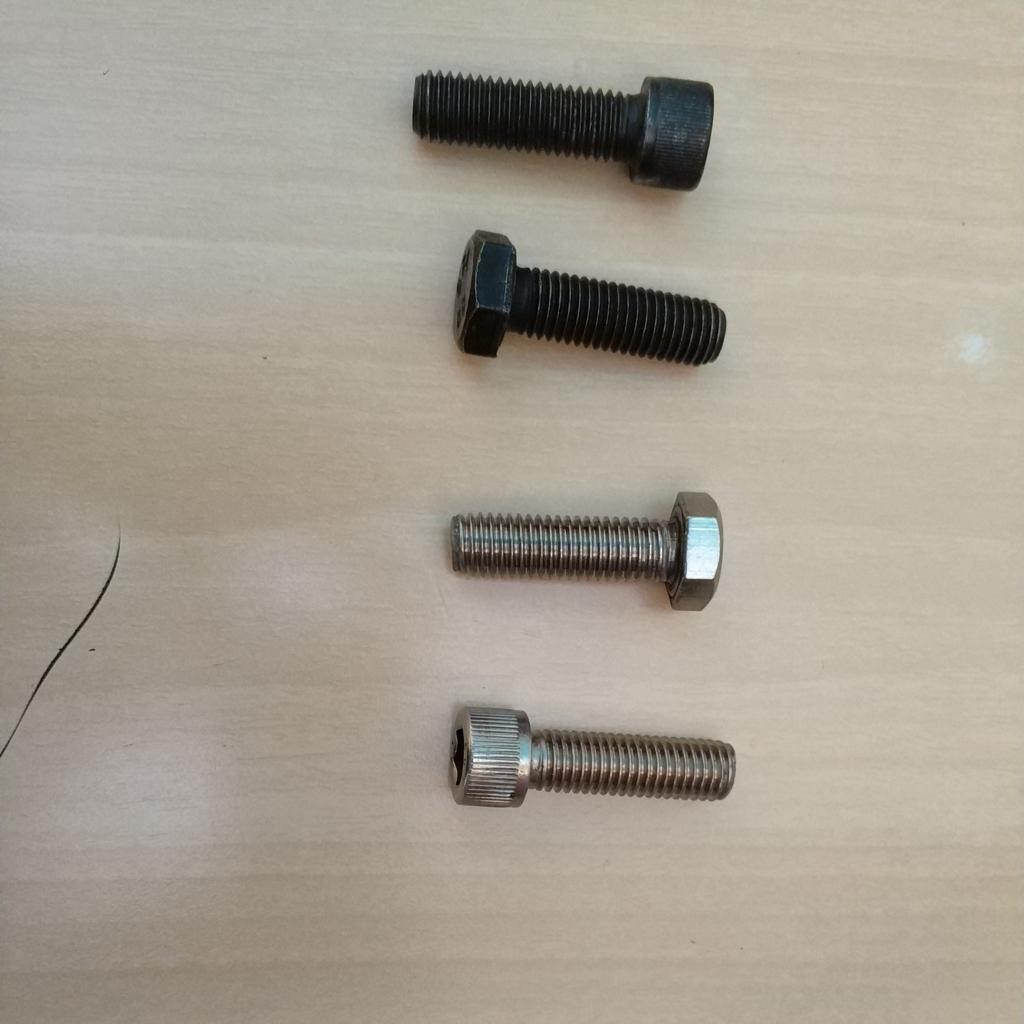screwtype1black: (402, 58, 714, 196)
screwtype1silver: (445, 700, 738, 816)
screwtype2black: (452, 224, 727, 396)
screwtype2silver: (446, 487, 720, 620)
